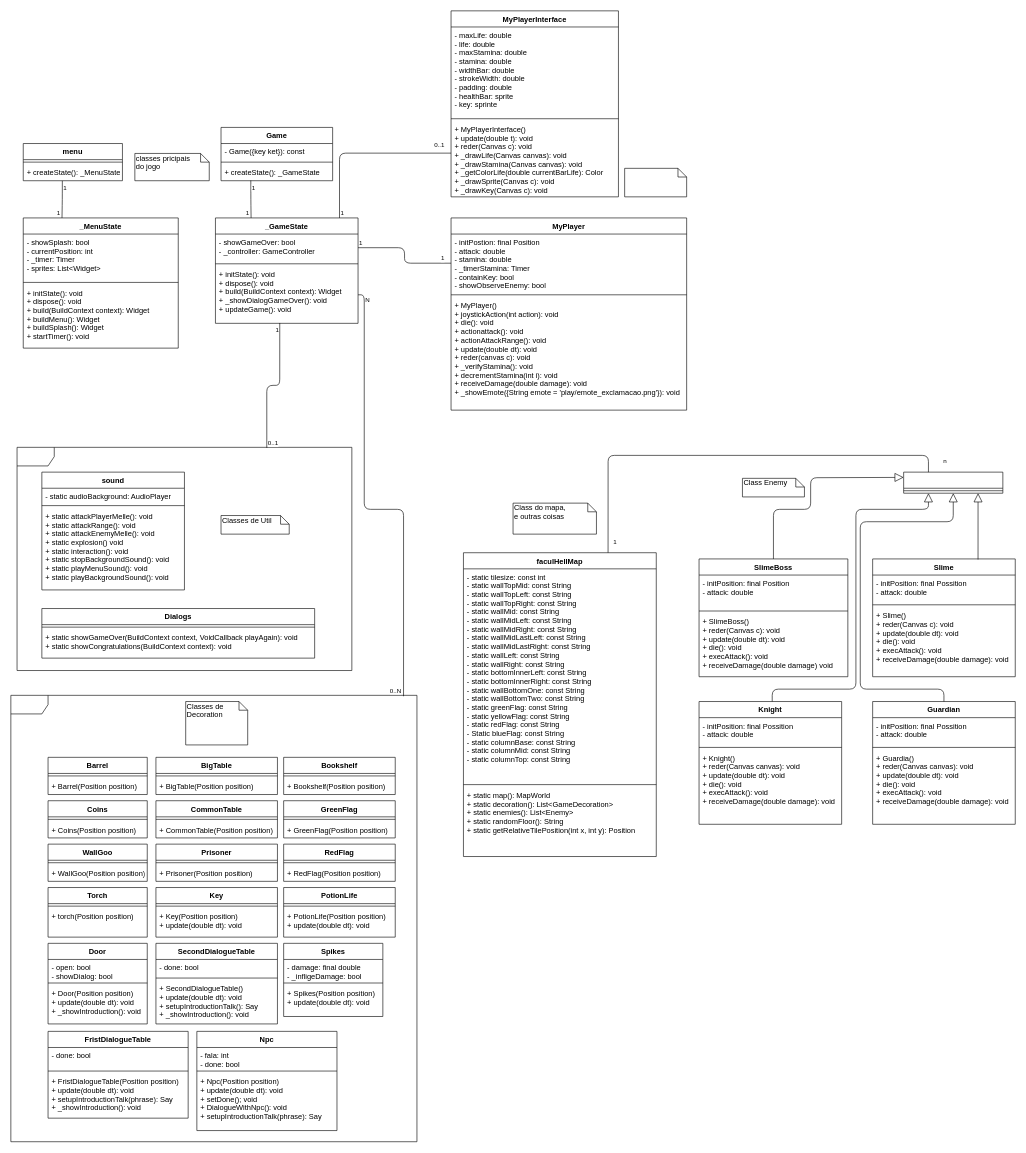
This 1026x1153 diagram has some shape labels left out. The shapes that lost their labels are listed below. From the top down, each one's centre as x and y in pixels, then its label:
the point at 655,182: Classes de Player
the point at 953,482: Enemy
the point at 184,559: Util
the point at 213,918: Decoration
